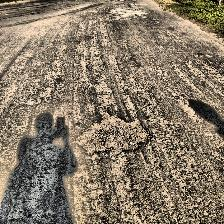pothole: (72, 111, 152, 156)
